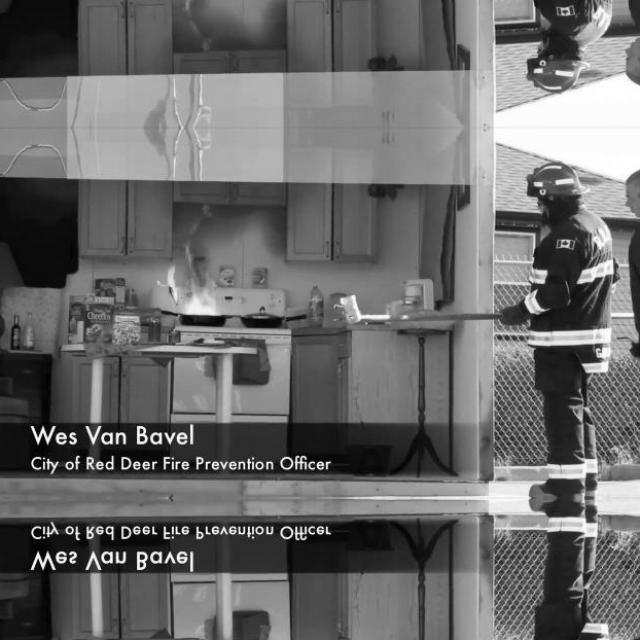smoke: (165, 240, 222, 316), (164, 0, 222, 14)
